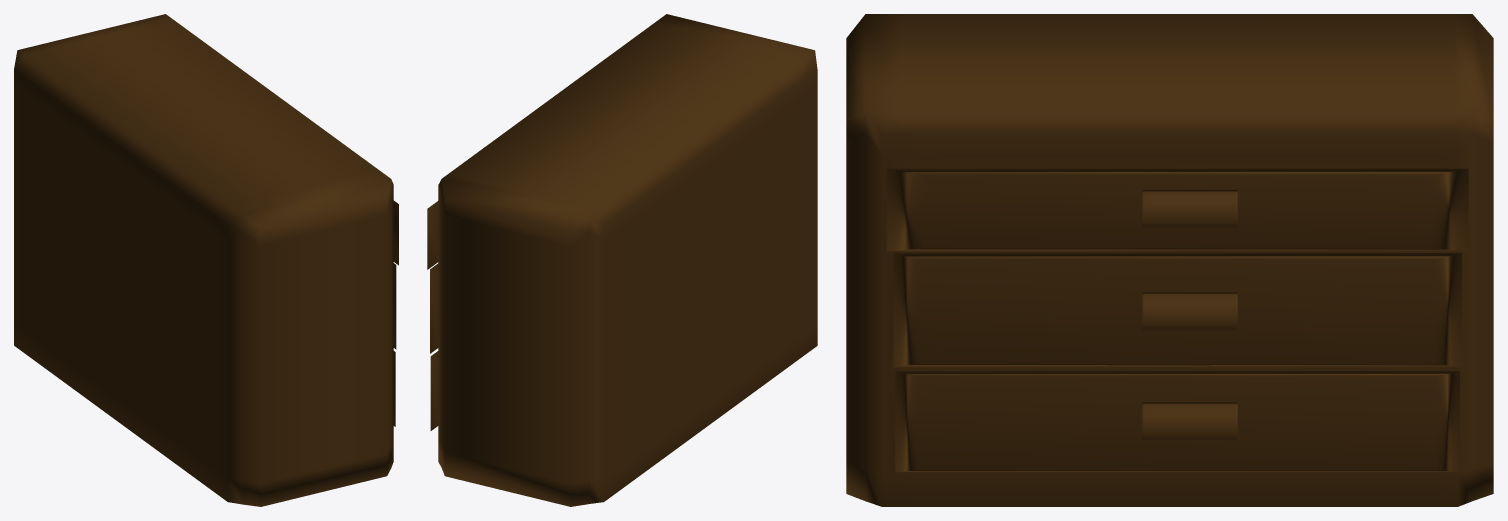
The model's file is CPI441_Fur_Dresser_V3.fbx.
3 views of the same model, side by side, from view 1: azimuth 30°, elevation 25°; view 2: azimuth 150°, elevation 25°; view 3: azimuth 270°, elevation 25° (orthographic). The views are drawn at different scales.
Visible parts, largest first — view 1: Cube.002; view 2: Cube.002; view 3: Cube.002.
Boxes of the visible parts, x1,y1,x2,y2 form: Cube.002: [14, 14, 398, 506]; Cube.002: [427, 14, 817, 506]; Cube.002: [846, 14, 1493, 506].
Bounding box in the file's own units: 309 × 439 × 661.
